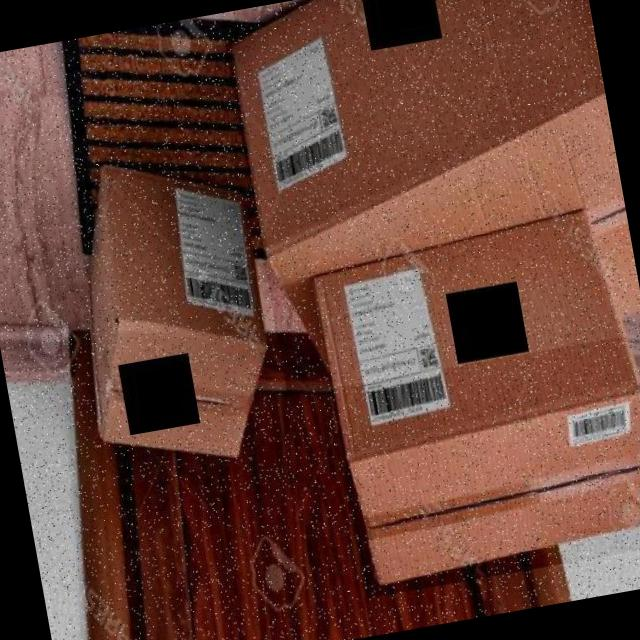box: (219, 0, 640, 395), (305, 191, 640, 597), (52, 128, 296, 486)
